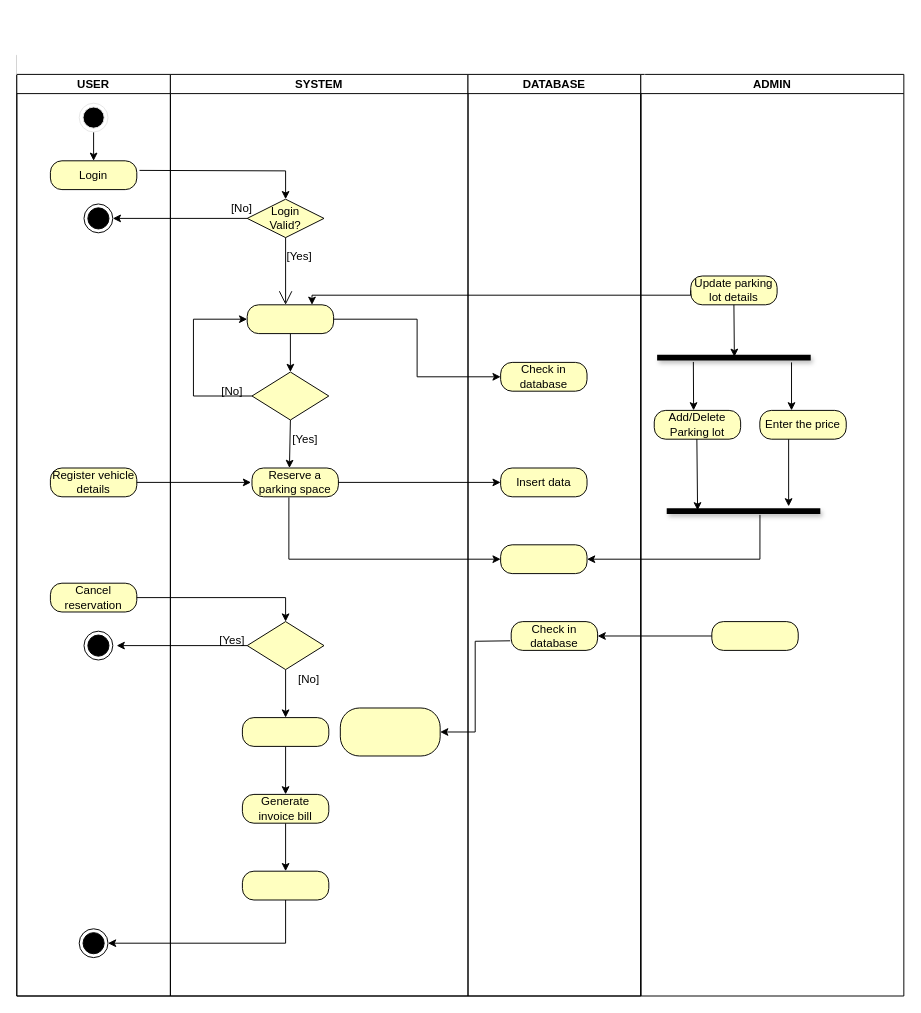
Image size: 921x1013. Some labels were removed from this diagram. The centre of each missing label's shape, as x and y in pixels:
"Available?" goes at pixel 290 395.
"Cancel?" goes at pixel 285 645.
"Checkout" goes at pixel 285 731.
"Payment" goes at pixel 285 885.
"Save details" goes at pixel 543 559.
"Search Parking Space" goes at pixel 290 319.
"Search vehicles" goes at pixel 754 635.
"View registered/ reserved vehicles" goes at pixel 389 731.
